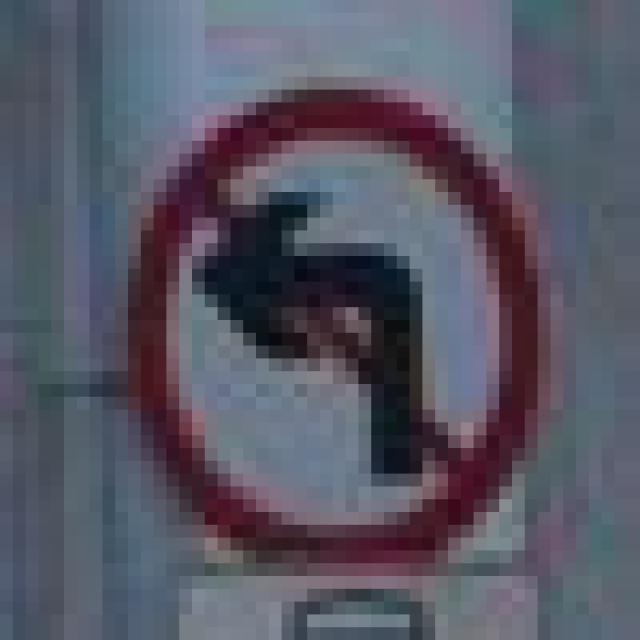left turn prohibited: (112, 69, 556, 563)
